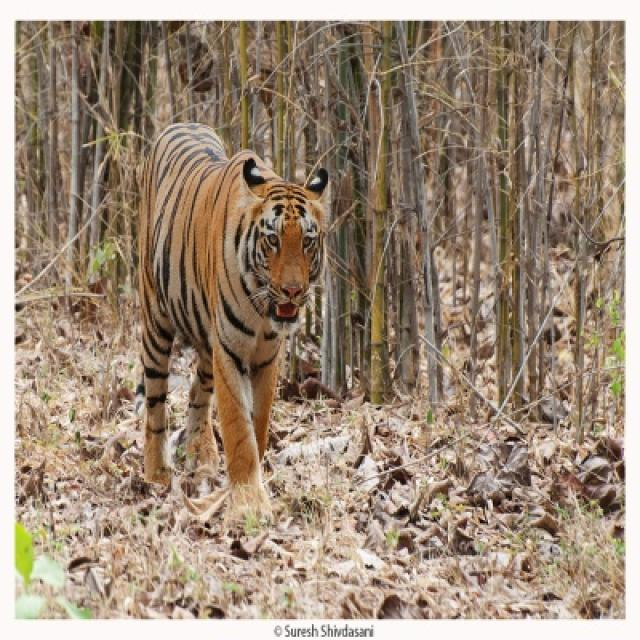Tiger: (141, 123, 326, 517)
